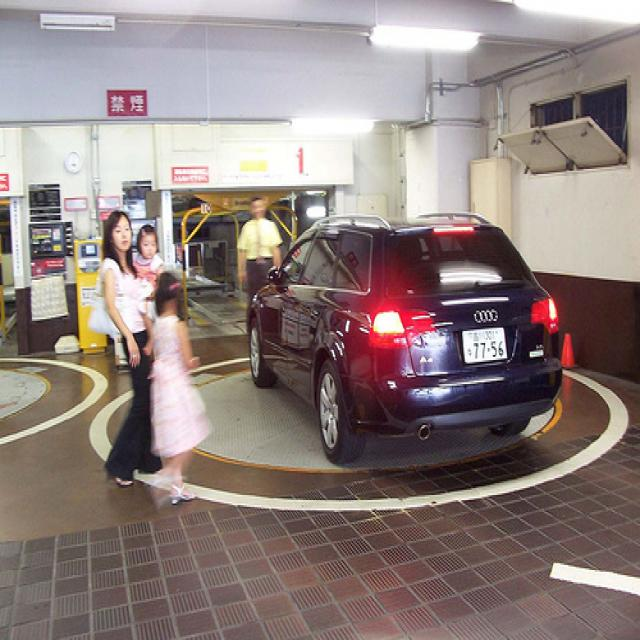Car: (244, 205, 566, 464)
